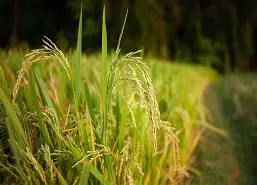crops: (1, 46, 219, 182), (195, 72, 256, 182), (0, 44, 36, 125), (148, 60, 213, 95), (65, 0, 109, 51), (190, 28, 225, 71), (53, 31, 71, 53)
